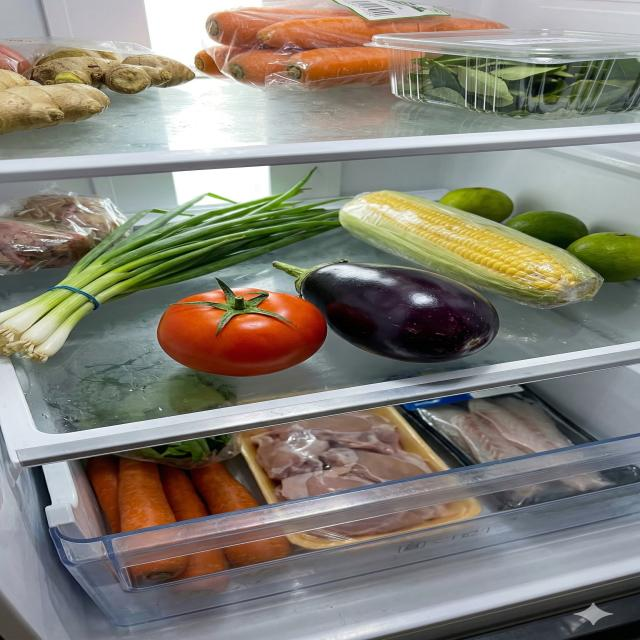carrot: (194, 7, 515, 90), (90, 454, 264, 535), (128, 535, 294, 582)
chicken: (250, 411, 434, 501)
corn: (338, 190, 605, 310)
curry_leaves: (406, 46, 640, 118)
eggplant: (272, 261, 500, 364)
fish: (420, 394, 576, 464)
ginger: (0, 49, 196, 134)
lime: (504, 210, 640, 283), (436, 187, 514, 224)
spring_onion: (0, 165, 356, 364)
tomato: (156, 276, 328, 378)
